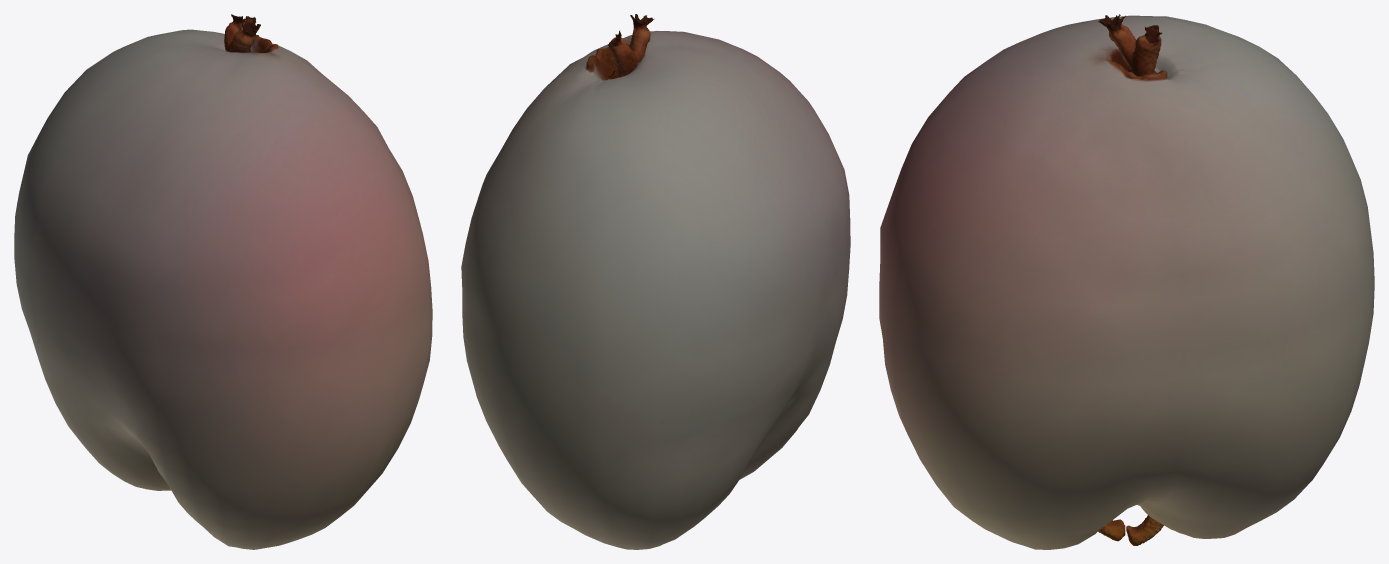
Rendered from 019e5ddf-63be-7bf2-b6c3-7d364141965a.fbx.
3 renders of one model, left to right at view 1: azimuth 30°, elevation 25°; view 2: azimuth 150°, elevation 25°; view 3: azimuth 270°, elevation 25°, orthographic. The views are drawn at different scales.
Parts seen in each view (by area): view 1: tripo_node_4e1ac37d-7570-4d68-b7d1-28b804dd50c8; view 2: tripo_node_4e1ac37d-7570-4d68-b7d1-28b804dd50c8; view 3: tripo_node_4e1ac37d-7570-4d68-b7d1-28b804dd50c8.
Boxes of the visible parts, left/top/right/bottom form: tripo_node_4e1ac37d-7570-4d68-b7d1-28b804dd50c8: left=14, top=14, right=432, bottom=549; tripo_node_4e1ac37d-7570-4d68-b7d1-28b804dd50c8: left=461, top=14, right=850, bottom=549; tripo_node_4e1ac37d-7570-4d68-b7d1-28b804dd50c8: left=879, top=14, right=1374, bottom=549.
Bounding box in the file's own units: 67.77 × 99.8 × 83.01.
Materials: 1 (1 with a texture image).
